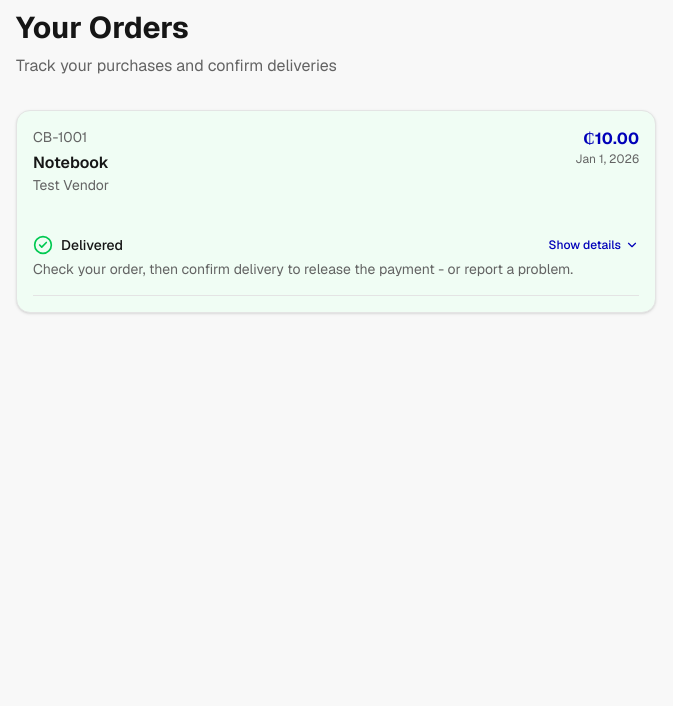
it: OrdersPage status timeline › renders every status-history entry in order
Click the heading "Notebook" at (71, 162), box [33,152,109,173]
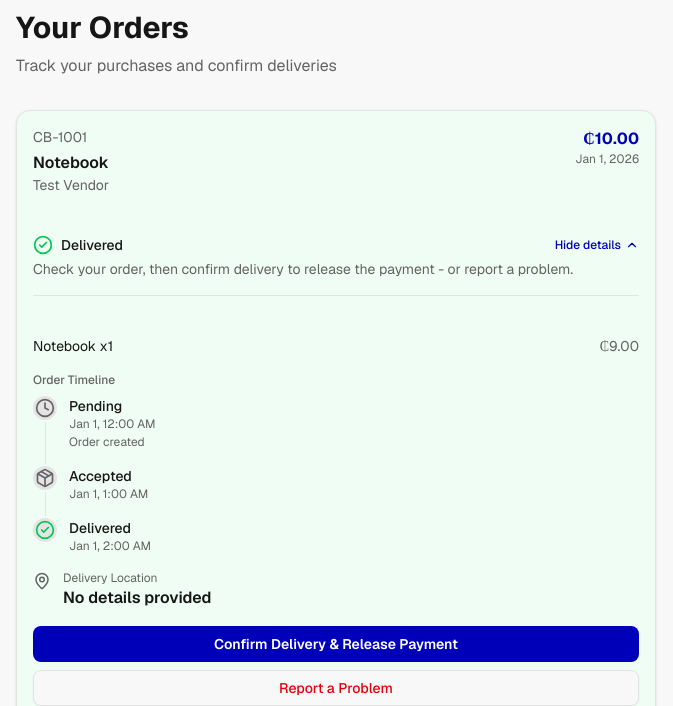
Result: the text "Order Timeline" is shown at [33,372,115,388]
Result: the text "Pending" is shown at [69,397,122,415]
Result: the text "Accepted" is shown at [69,467,132,485]
